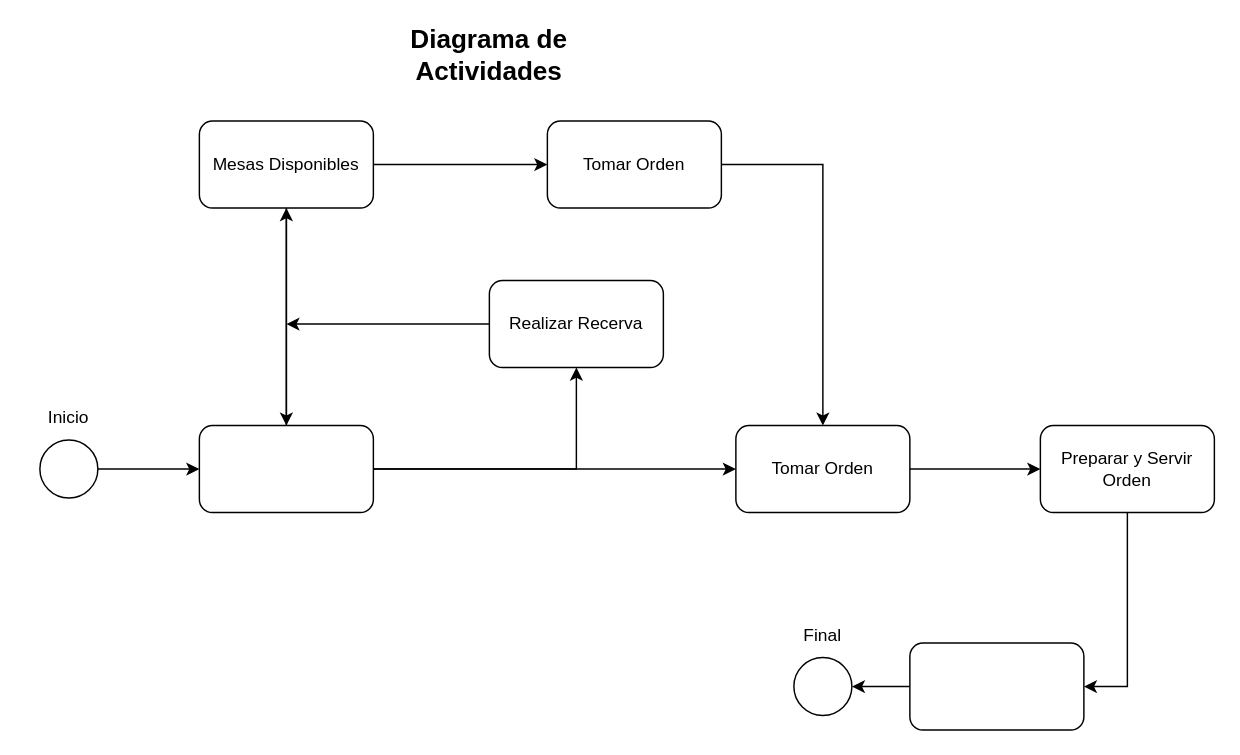
Image size: 1240x755. Some labels were removed from this diagram. Each missing label, with the centre of its shape:
"Generar Factura" goes at point (996, 686).
"Seleccionar Mesa" goes at point (285, 468).
